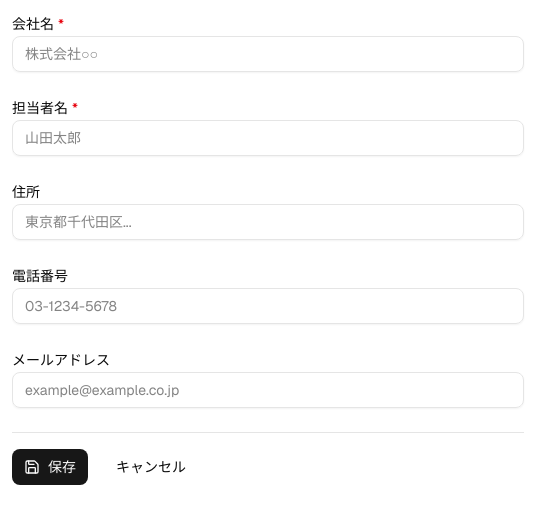
Test: CustomerForm › 担当者名未入力で保存するとバリデーションエラーが表示される
The width and height of the screenshot is (542, 526).
Type "テスト株式会社" into the field labelled "会社名*" at (268, 54), box [12,36,524,72]
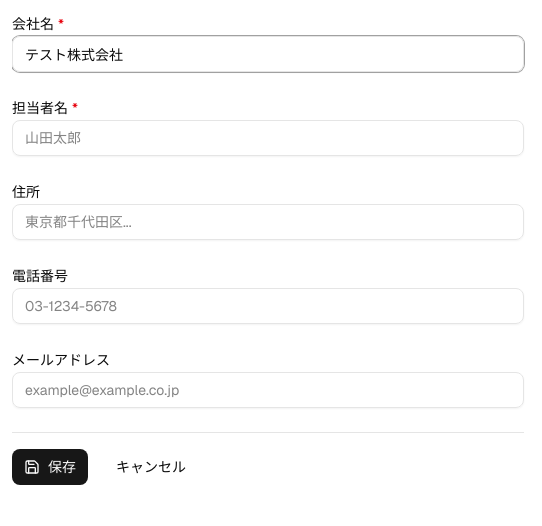
Click the button "保存" at (50, 467), box [12,449,88,485]
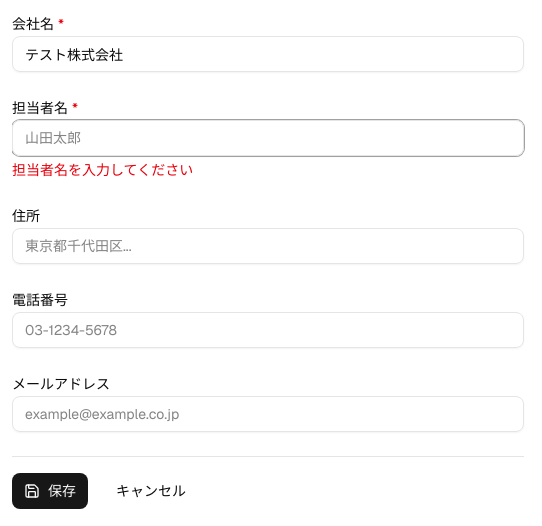
Now the text "担当者名を入力してください" is shown, box [12,161,193,179]
